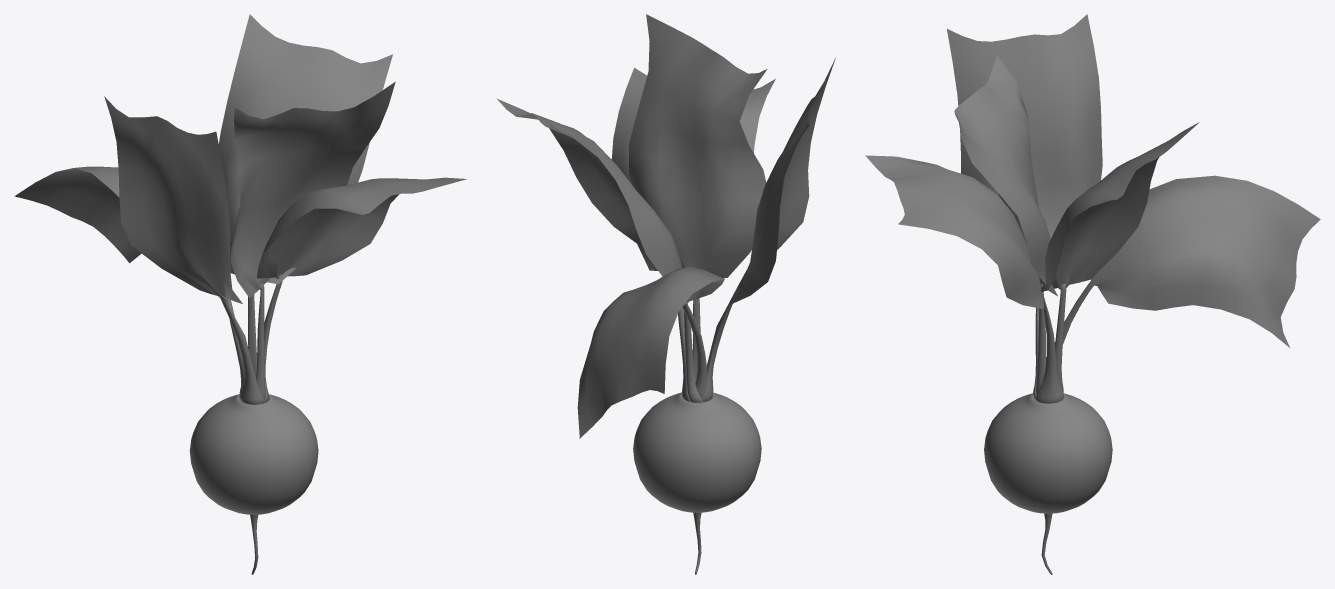
File: radish_zzh.glb
3 views of the same model, side by side, from view 1: azimuth 30°, elevation 25°; view 2: azimuth 150°, elevation 25°; view 3: azimuth 270°, elevation 25° (orthographic).
Visible parts, largest first — view 1: node_id5; view 2: node_id5; view 3: node_id5.
Boxes of the visible parts, x1=… form: node_id5: x1=14, y1=14, x2=466, y2=574; node_id5: x1=496, y1=14, x2=835, y2=574; node_id5: x1=865, y1=14, x2=1320, y2=574.
Size of the model in its own units: 0.1075 by 0.1723 by 0.1413.
Materials: 1 (1 with a texture image).
